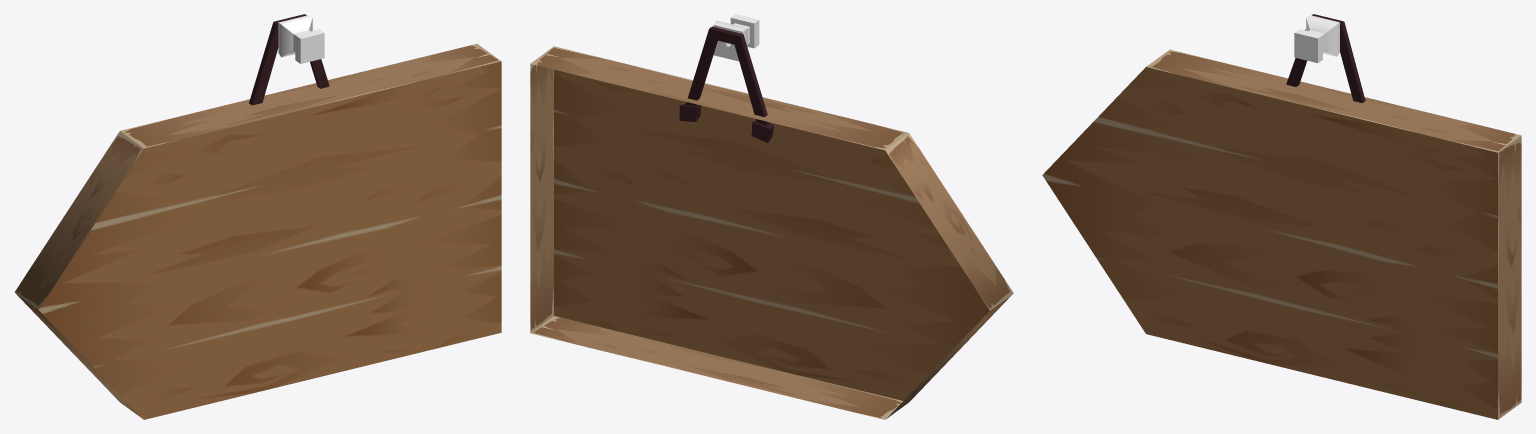
Rendered from exitSign.fbx.
3 renders of one model, left to right at view 1: azimuth 30°, elevation 25°; view 2: azimuth 150°, elevation 25°; view 3: azimuth 330°, elevation 25°, orthographic.
Visible parts, largest first — view 1: polySurface41; view 2: polySurface41; view 3: polySurface41.
Boxes of the visible parts, x1=… form: polySurface41: x1=14, y1=14, x2=501, y2=419; polySurface41: x1=530, y1=14, x2=1013, y2=419; polySurface41: x1=1042, y1=14, x2=1521, y2=419.
Bounding box in the file's own units: 12.46 × 8.99 × 1.26.
